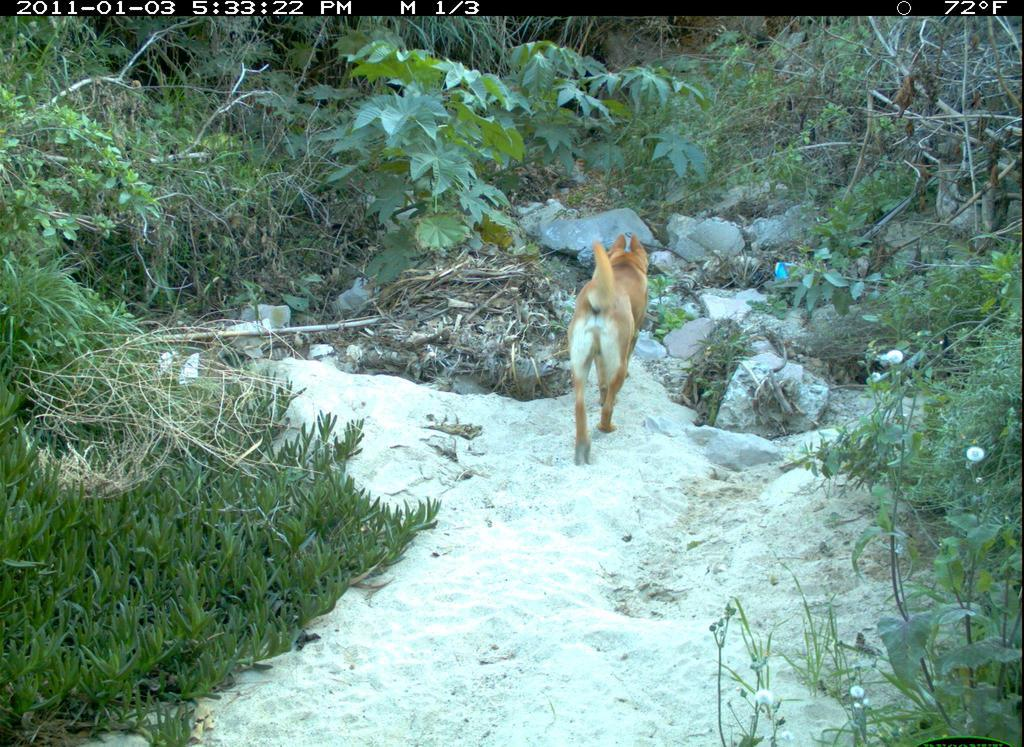dog: (562, 233, 657, 472)
